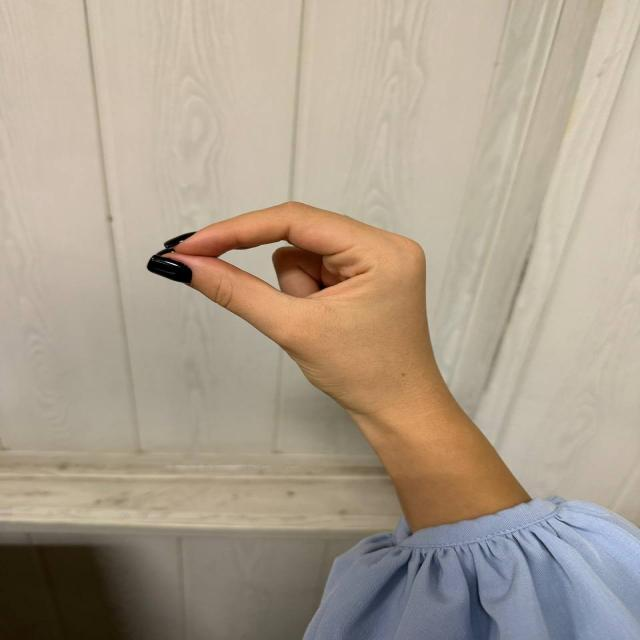ch: (140, 160, 476, 408)
